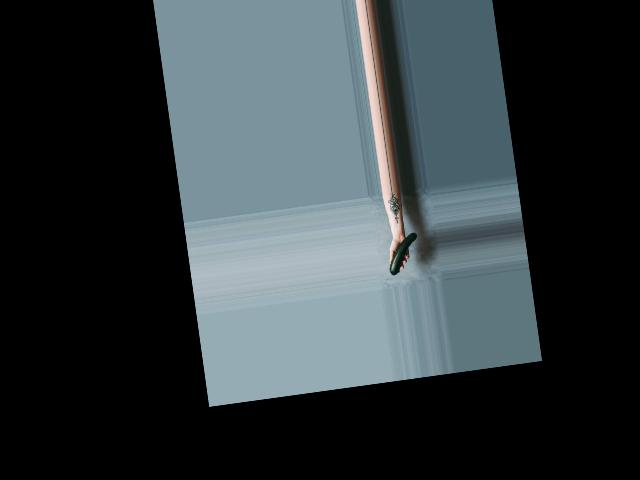cucumber: (385, 232, 422, 275)
